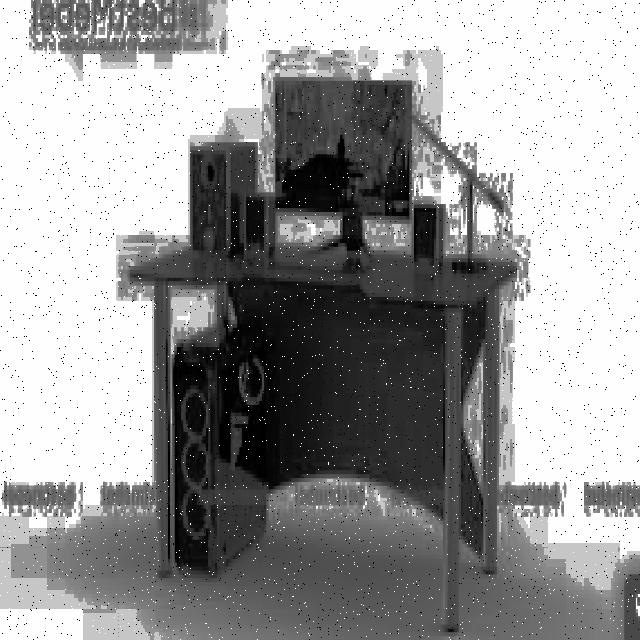table: (130, 239, 519, 628)
